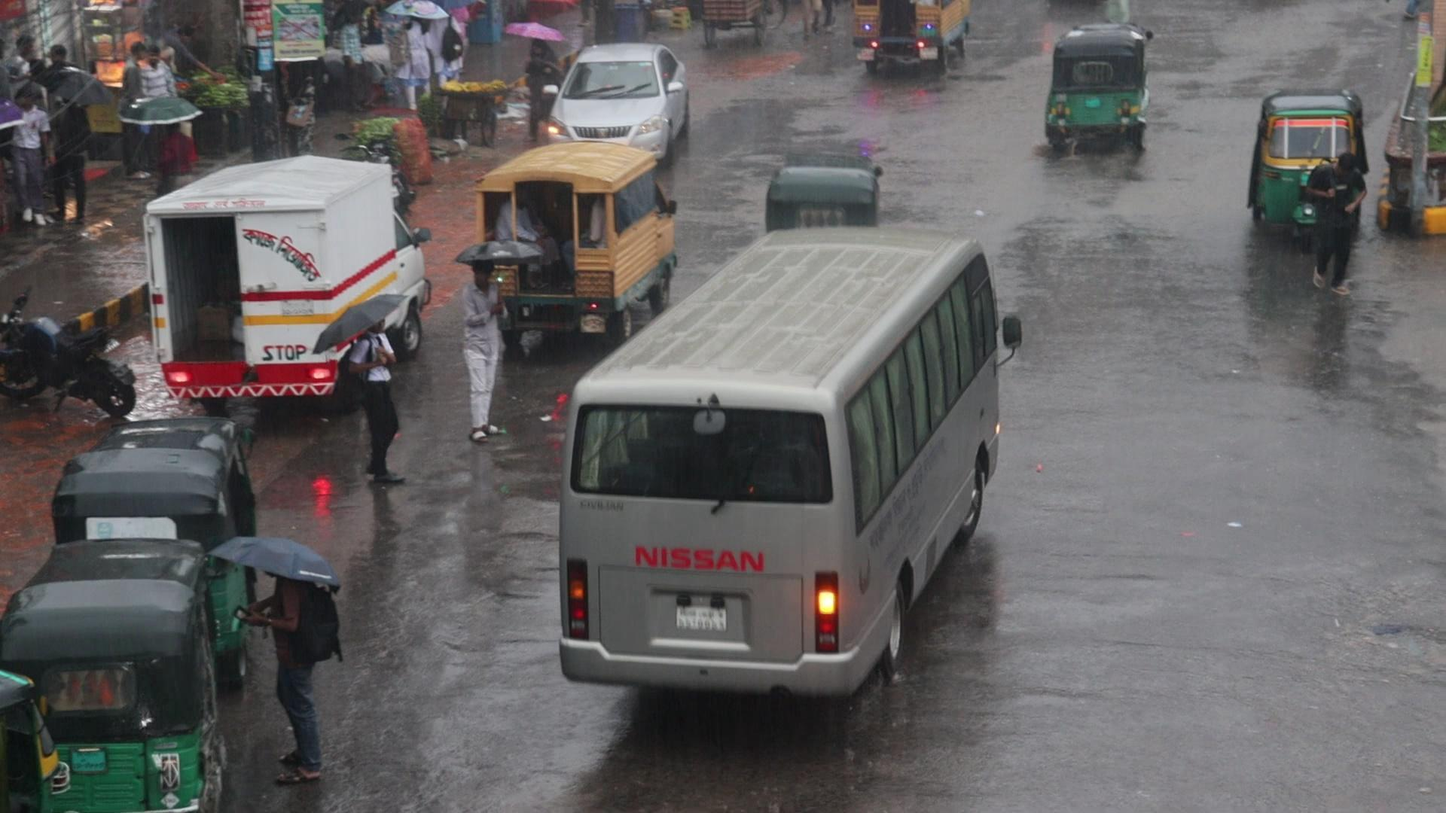Bus: (564, 233, 1025, 762)
Car: (546, 30, 692, 158)
Truck: (469, 139, 680, 358), (847, 0, 978, 94)
